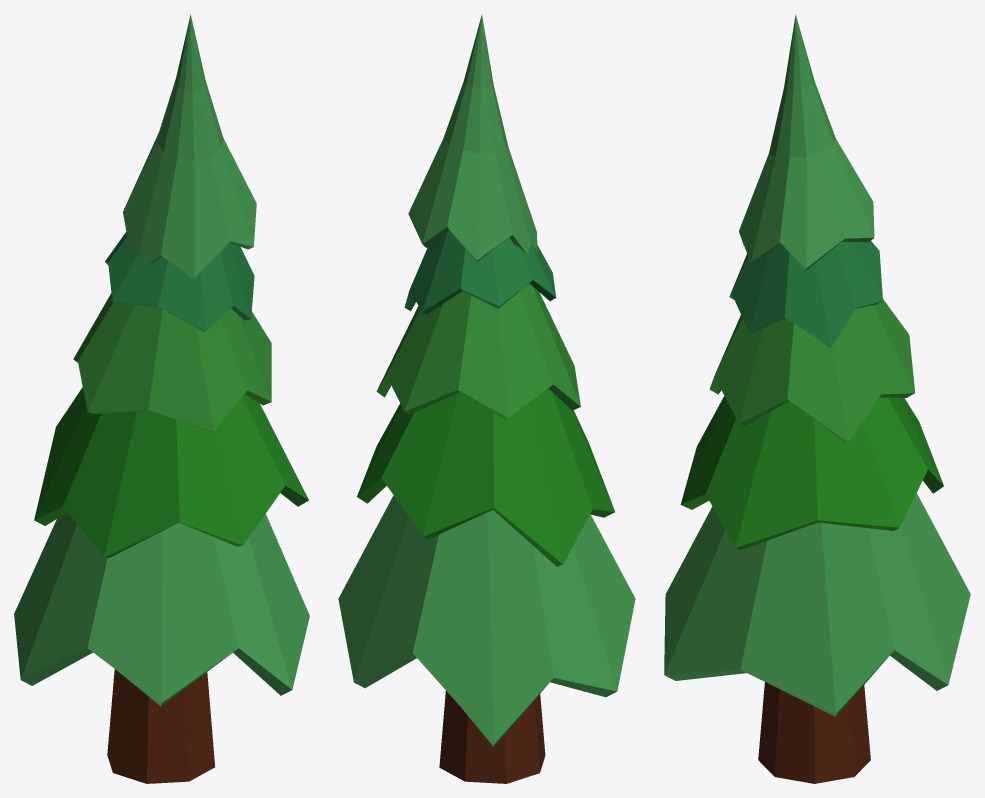
File: pine_tree_4.glb
The picture shows the model from 3 angles, left to right: view 1: azimuth 30°, elevation 25°; view 2: azimuth 150°, elevation 25°; view 3: azimuth 270°, elevation 25°; orthographic projection. The views are drawn at different scales.
Parts seen in each view (by area): view 1: pine_tree_4; view 2: pine_tree_4; view 3: pine_tree_4.
Part boxes in pixels (x1,y1,x2,y2): pine_tree_4: [14, 14, 309, 783]; pine_tree_4: [338, 14, 635, 783]; pine_tree_4: [664, 14, 970, 783].
Bounding box in the file's own units: 4.28 × 11.27 × 4.14.
